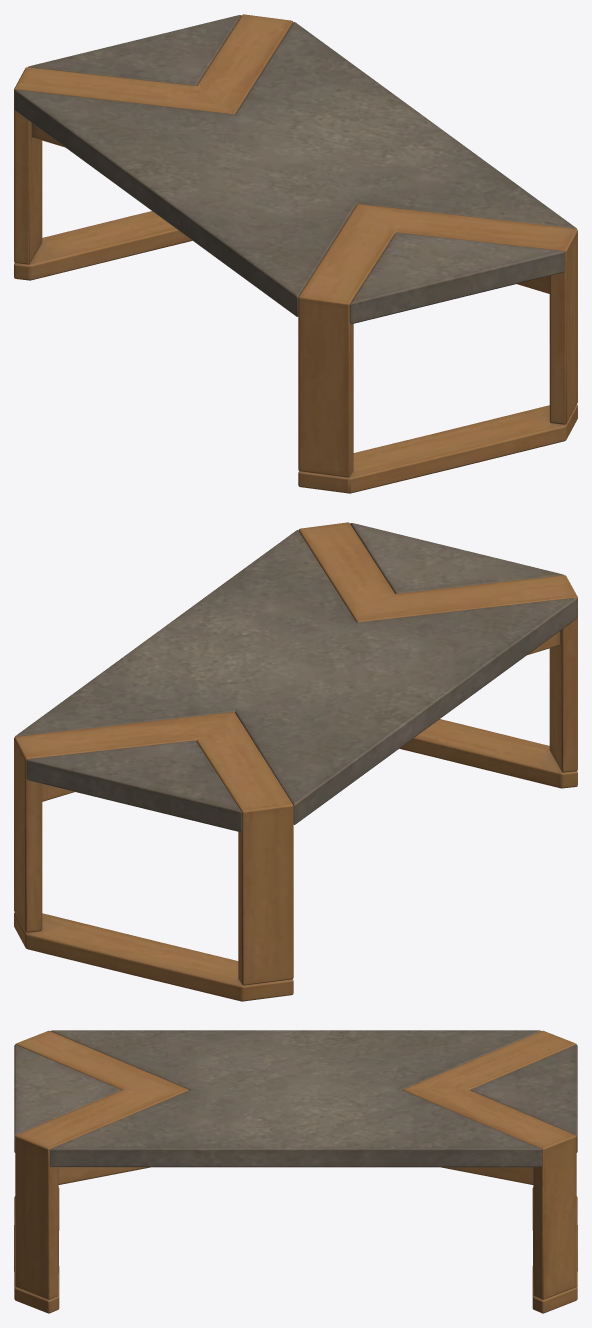
File: modern_coffee_table_01.glb
3 views of the same model, one above another, from view 1: azimuth 30°, elevation 25°; view 2: azimuth 150°, elevation 25°; view 3: azimuth 270°, elevation 25° (orthographic). The views are drawn at different scales.
Parts seen in each view (by area): view 1: modern_coffee_table_01; view 2: modern_coffee_table_01; view 3: modern_coffee_table_01.
Part boxes in pixels (x1,y1,x2,y2): modern_coffee_table_01: [14, 14, 577, 493]; modern_coffee_table_01: [14, 522, 577, 1001]; modern_coffee_table_01: [14, 1030, 577, 1313].
Bounding box in the file's own units: 0.5999 × 0.39 × 1.2.
1 material, 1 textured.
